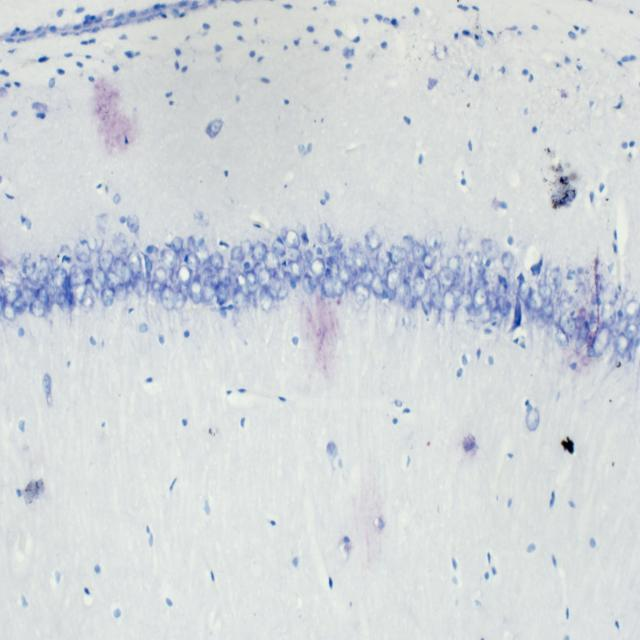neuron: (74, 283, 95, 309), (593, 326, 611, 355), (18, 278, 36, 306), (127, 251, 143, 280), (481, 237, 500, 260), (469, 250, 483, 280), (90, 266, 106, 292), (386, 266, 402, 292), (4, 282, 22, 305), (438, 266, 456, 289), (408, 262, 425, 286), (575, 321, 589, 350), (442, 289, 458, 314), (364, 230, 382, 252), (310, 257, 325, 283), (560, 313, 576, 337), (106, 271, 124, 292), (425, 229, 443, 250), (113, 231, 128, 256), (215, 282, 230, 307), (603, 282, 618, 307), (74, 240, 91, 262), (527, 290, 544, 312), (336, 263, 352, 286), (602, 302, 616, 328), (177, 264, 192, 288), (429, 275, 441, 305), (69, 265, 86, 286), (52, 266, 68, 288), (98, 250, 114, 272), (317, 223, 333, 245), (472, 285, 488, 307), (496, 294, 512, 316), (624, 299, 640, 321), (260, 285, 273, 312), (36, 257, 50, 282), (236, 273, 250, 298), (274, 277, 289, 300), (288, 259, 303, 282), (263, 250, 280, 270), (389, 245, 406, 265), (85, 278, 98, 304), (134, 270, 147, 296), (372, 273, 385, 299), (161, 286, 175, 310), (190, 277, 202, 305), (321, 276, 335, 300), (326, 256, 340, 280), (616, 332, 630, 356), (57, 292, 72, 314), (216, 266, 231, 288), (587, 274, 602, 296), (233, 289, 246, 314), (548, 268, 562, 291), (160, 248, 176, 268), (412, 277, 427, 298), (477, 304, 492, 325), (245, 270, 258, 294), (267, 274, 280, 298), (527, 408, 540, 432), (361, 267, 375, 289), (184, 253, 201, 271), (100, 288, 116, 307), (284, 229, 300, 248), (354, 282, 370, 301), (120, 263, 132, 288), (203, 277, 214, 304), (210, 251, 224, 272), (302, 273, 316, 294), (172, 290, 185, 312), (555, 329, 570, 348), (2, 302, 16, 322), (126, 214, 140, 234), (114, 282, 128, 302), (253, 240, 267, 260), (574, 308, 587, 329), (30, 300, 46, 317), (353, 252, 370, 268), (457, 292, 473, 309), (489, 309, 504, 327), (272, 237, 286, 256), (348, 269, 360, 291), (431, 289, 443, 311), (447, 256, 463, 272), (114, 257, 125, 280), (458, 226, 472, 244), (501, 252, 515, 270), (538, 283, 552, 301), (258, 267, 271, 286), (541, 301, 554, 320), (12, 297, 27, 313), (518, 281, 530, 301), (412, 245, 426, 262), (36, 286, 49, 304), (487, 291, 498, 312), (496, 280, 508, 299), (624, 323, 639, 338), (228, 260, 241, 277), (231, 245, 244, 262), (376, 259, 388, 277), (402, 279, 411, 303), (287, 246, 301, 261), (187, 235, 198, 254), (333, 279, 344, 298), (240, 240, 253, 256), (47, 283, 56, 306), (368, 256, 380, 273), (143, 254, 153, 274), (154, 266, 168, 280), (172, 236, 184, 252), (300, 254, 312, 270), (25, 261, 36, 278), (423, 253, 434, 270), (143, 271, 151, 294), (151, 280, 164, 294), (340, 247, 354, 260), (352, 240, 365, 254), (87, 235, 97, 253), (467, 305, 482, 317), (281, 258, 292, 274), (344, 255, 356, 269), (252, 262, 262, 277), (324, 267, 334, 282), (146, 244, 159, 255), (146, 253, 158, 264), (355, 294, 366, 306), (96, 237, 104, 253), (456, 264, 465, 278), (581, 354, 591, 366), (179, 247, 186, 263), (20, 253, 30, 264), (328, 246, 339, 256), (306, 249, 312, 261)
